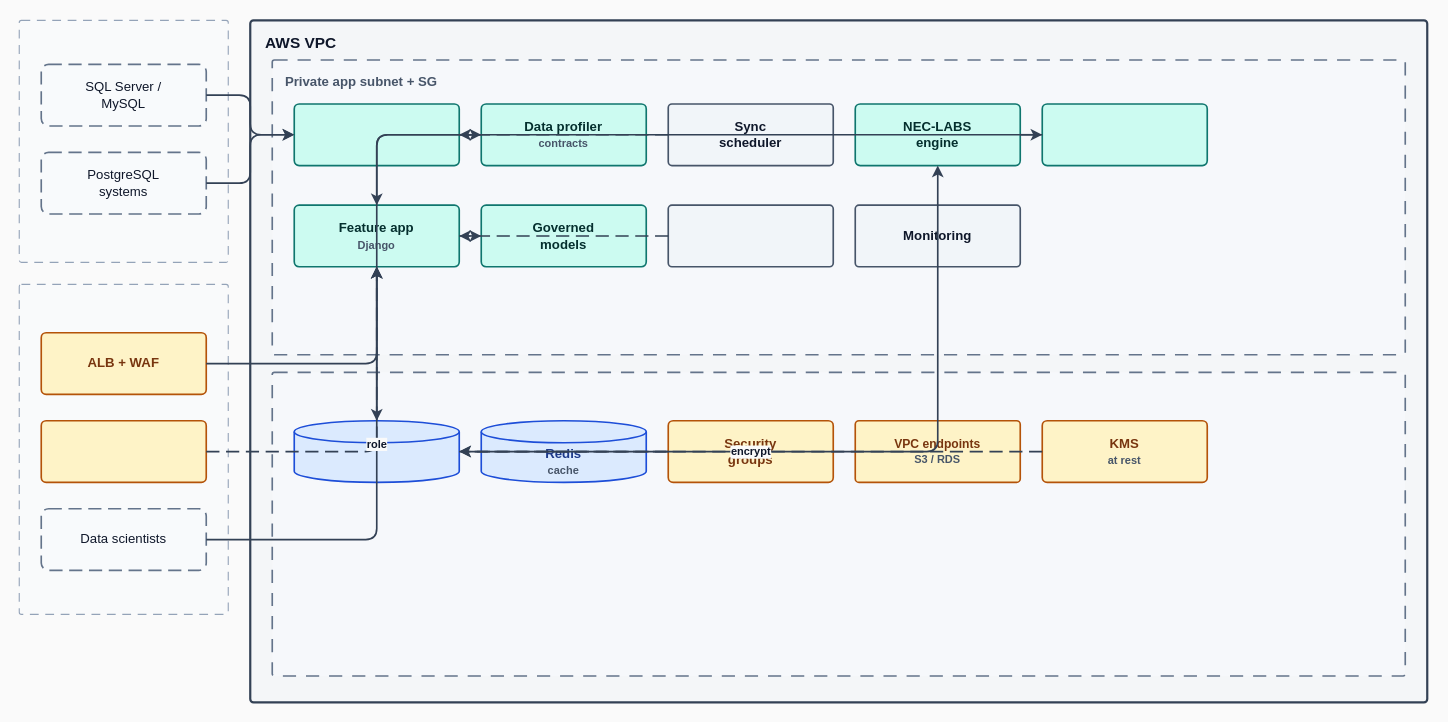
The diagram is 1448 pixels wide and 722 high, and some of its shapes have lost their labels. The box of each missing label's shape, as (x1, y1, x2, y2) in pixels:
Docker on AWS: (667, 204, 834, 267)
ETL pipeline: (293, 103, 460, 166)
Feature generator: (1041, 103, 1208, 166)
IAM / AuthZ: (40, 419, 207, 483)
PostgreSQL profiled data: (293, 419, 460, 483)
Private data subnet + SG: (271, 371, 1406, 676)
Public edge: (18, 283, 228, 614)
Sources: (18, 19, 228, 262)
